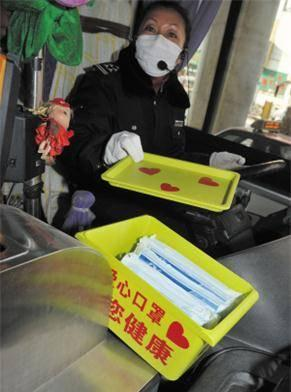face_mask: (136, 8, 185, 74)
